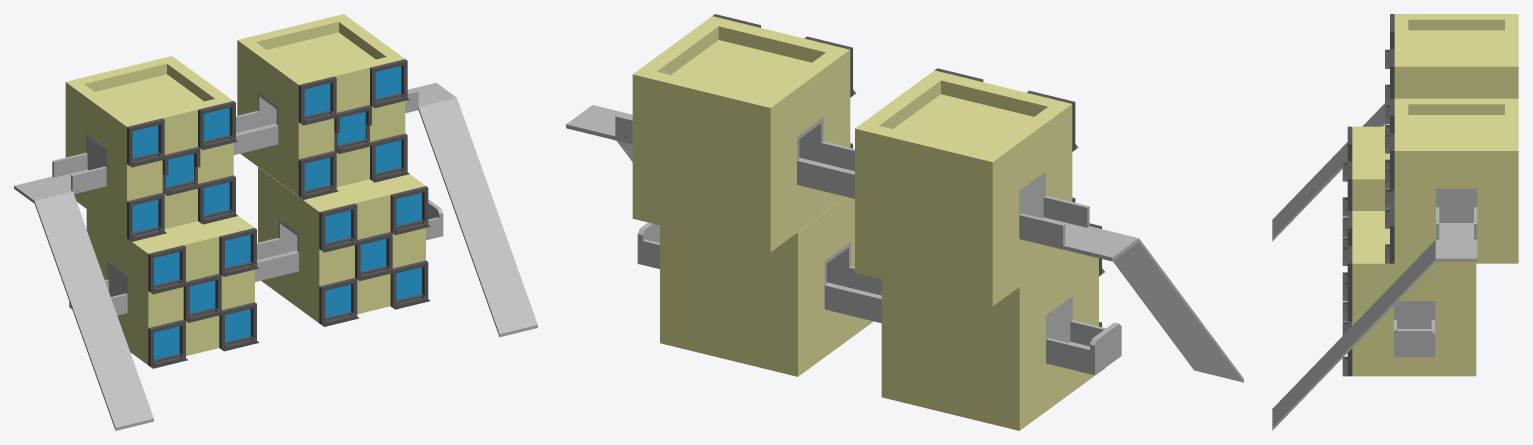
File: Rubix cube Yella.fbx
3 views of the same model, side by side, from view 1: azimuth 30°, elevation 25°; view 2: azimuth 150°, elevation 25°; view 3: azimuth 270°, elevation 25° (orthographic). The views are drawn at different scales.
Visible parts, largest first — view 1: Cube.004; view 2: Cube.004; view 3: Cube.004.
Boxes of the visible parts, x1=… form: Cube.004: x1=14, y1=14, x2=537, y2=430; Cube.004: x1=566, y1=14, x2=1243, y2=430; Cube.004: x1=1272, y1=14, x2=1518, y2=430.
Bounding box in the file's own units: 29355 × 16083 × 14701.
